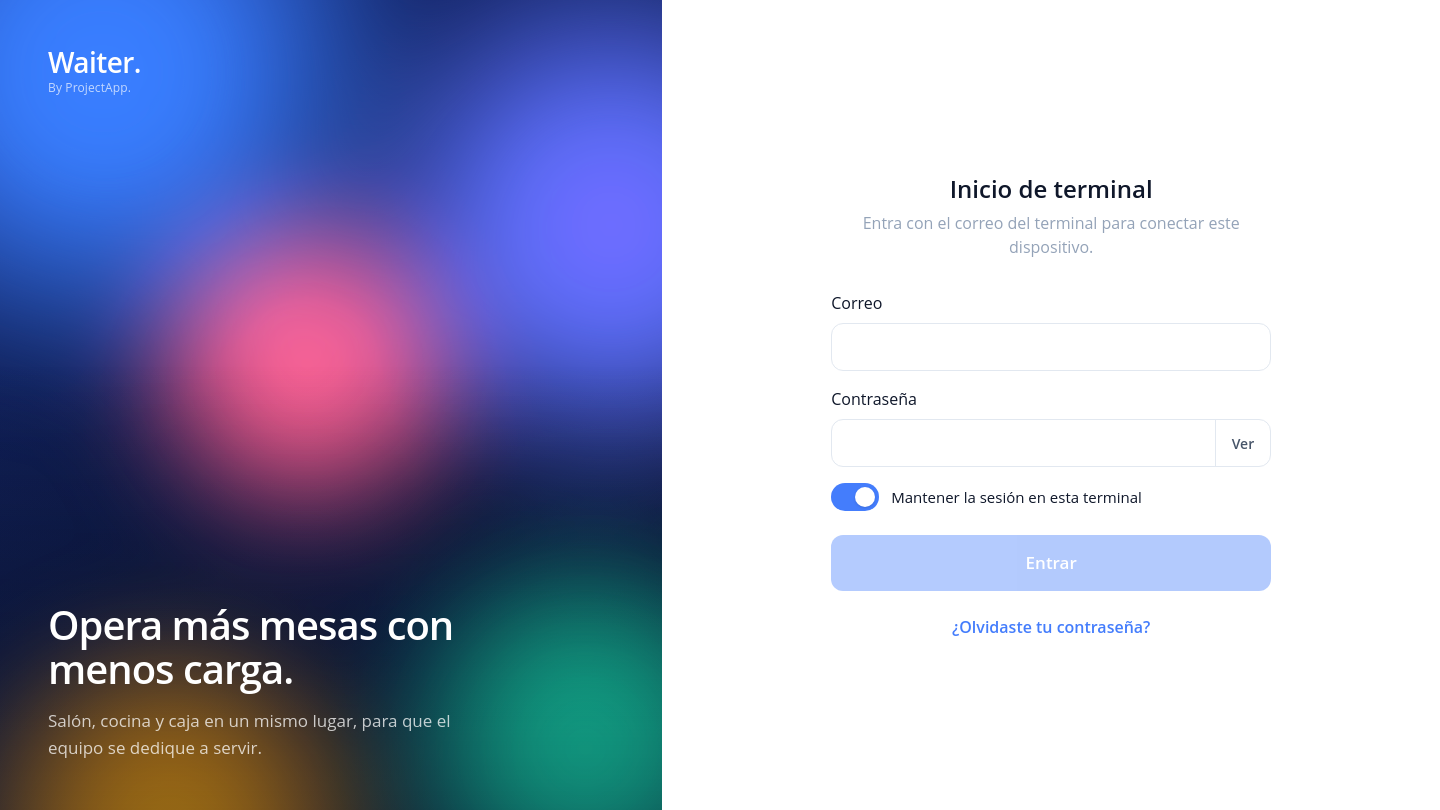
Test: without an Odoo session asks the terminal for email and password
Check: the heading reads "Inicio de terminal", box x1=950 y1=172 x2=1153 y2=205
Check: the button "Entrar" is disabled, box x1=831 y1=535 x2=1271 y2=591
Click the button "¿Olvidaste tu contraseña?" at (1051, 627), box x1=952 y1=615 x2=1150 y2=639
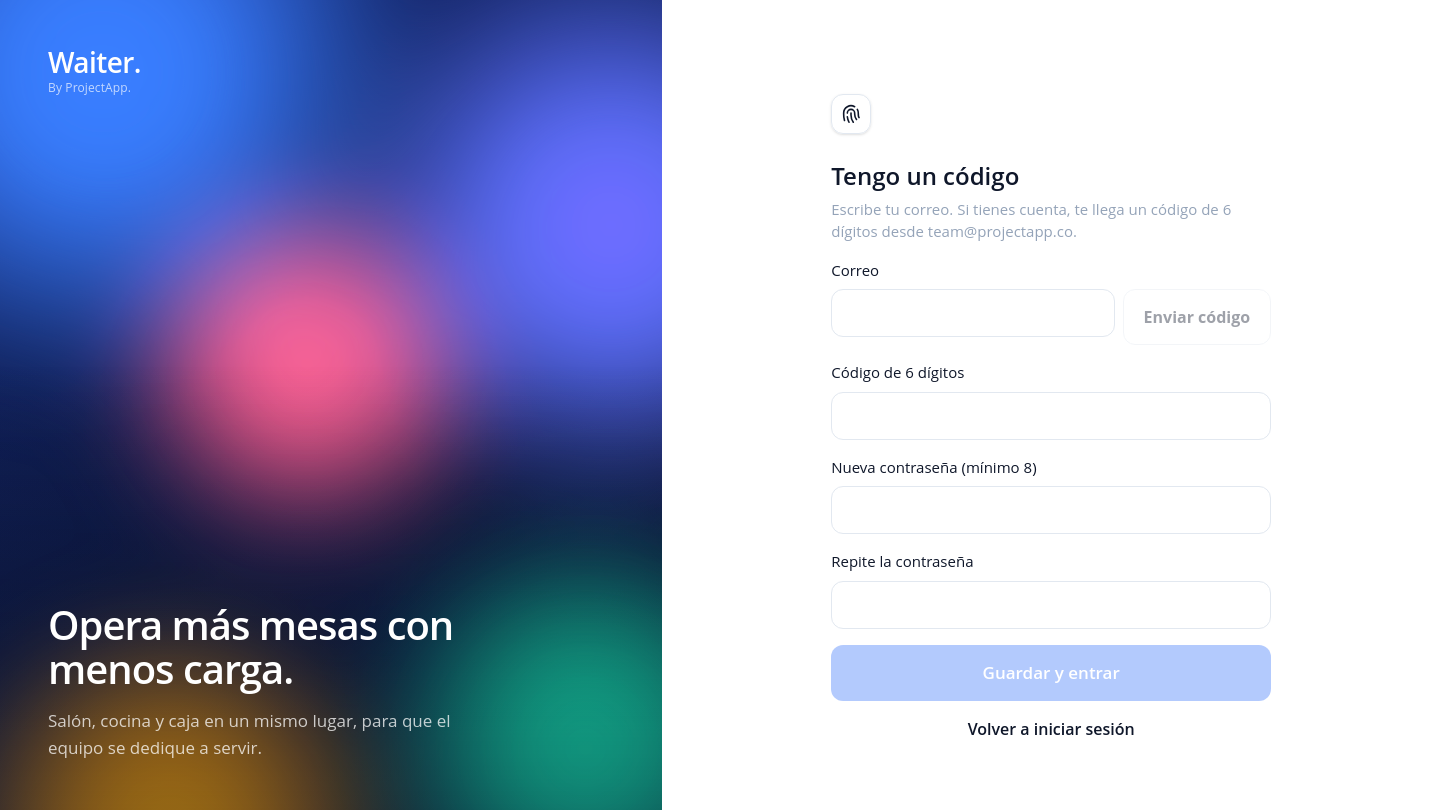
Check: the heading "Tengo un código" is shown, box x1=831 y1=158 x2=1019 y2=192
